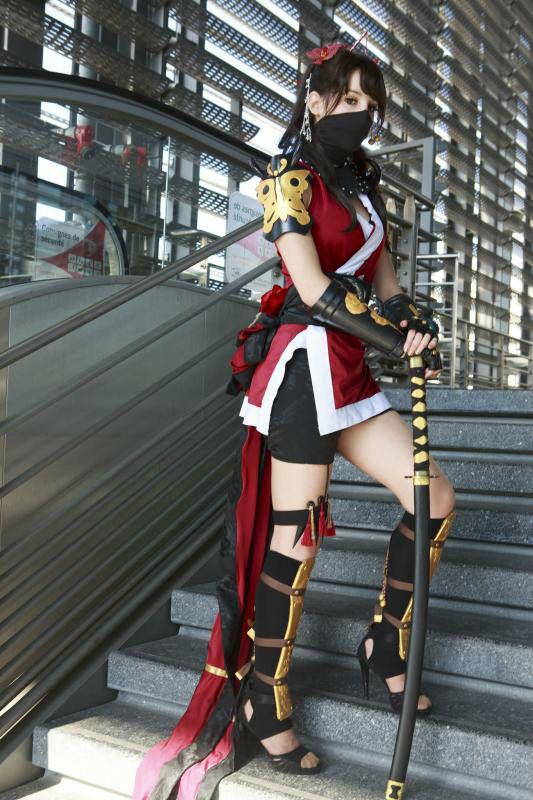OK: (320, 77, 389, 146)
